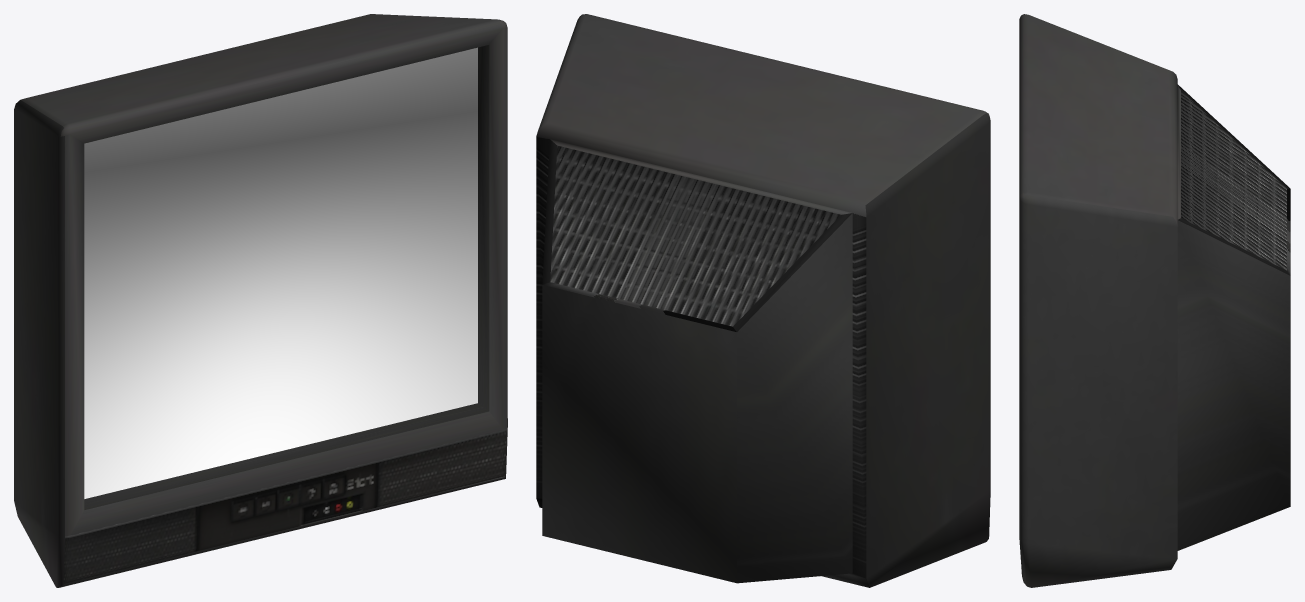
The picture shows the model from 3 angles, left to right: view 1: azimuth 30°, elevation 25°; view 2: azimuth 150°, elevation 25°; view 3: azimuth 270°, elevation 25°; orthographic projection. The views are drawn at different scales.
Visible parts, largest first — view 1: TV-model; view 2: TV-model; view 3: TV-model.
Part boxes in pixels (x1,y1,x2,y2): TV-model: [14, 14, 507, 587]; TV-model: [536, 14, 990, 587]; TV-model: [1019, 14, 1290, 587].
Size of the model in its own units: 1.98 by 1.96 by 1.23.
2 materials, 1 textured.
